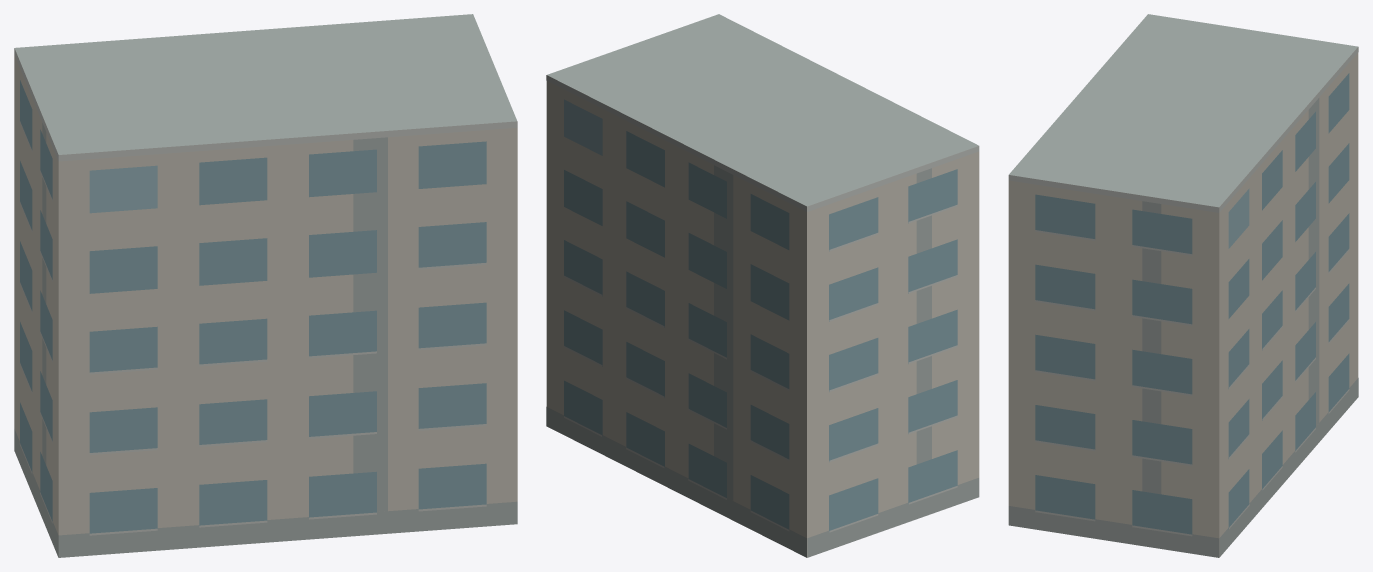
Rendered from residential-9ba8ffb3-40fa-4114-84bc-c00d73d4e33e.glb.
The picture shows the model from 3 angles, left to right: view 1: azimuth 30°, elevation 25°; view 2: azimuth 150°, elevation 25°; view 3: azimuth 270°, elevation 25°; orthographic projection. The views are drawn at different scales.
Parts seen in each view (by area): view 1: residential-9ba8ffb3-40fa-4114-84bc-c00d73d4e33e.tmp; view 2: residential-9ba8ffb3-40fa-4114-84bc-c00d73d4e33e.tmp; view 3: residential-9ba8ffb3-40fa-4114-84bc-c00d73d4e33e.tmp.
Boxes of the visible parts, x1=… form: residential-9ba8ffb3-40fa-4114-84bc-c00d73d4e33e.tmp: x1=14, y1=14, x2=517, y2=557; residential-9ba8ffb3-40fa-4114-84bc-c00d73d4e33e.tmp: x1=546, y1=14, x2=979, y2=557; residential-9ba8ffb3-40fa-4114-84bc-c00d73d4e33e.tmp: x1=1008, y1=14, x2=1358, y2=557.
Size of the model in its own units: 18.05 by 15.25 by 13.8.
